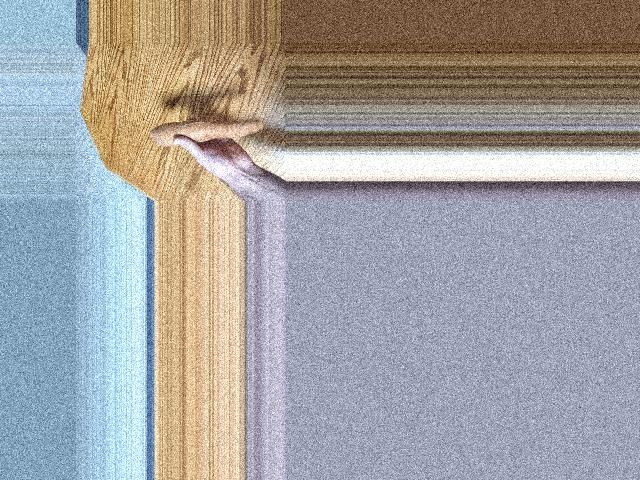sweet_potato: (152, 116, 267, 142)
